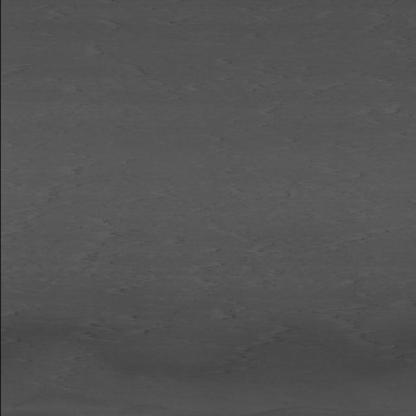silk_spot: (61, 212, 315, 292), (57, 302, 313, 363)
